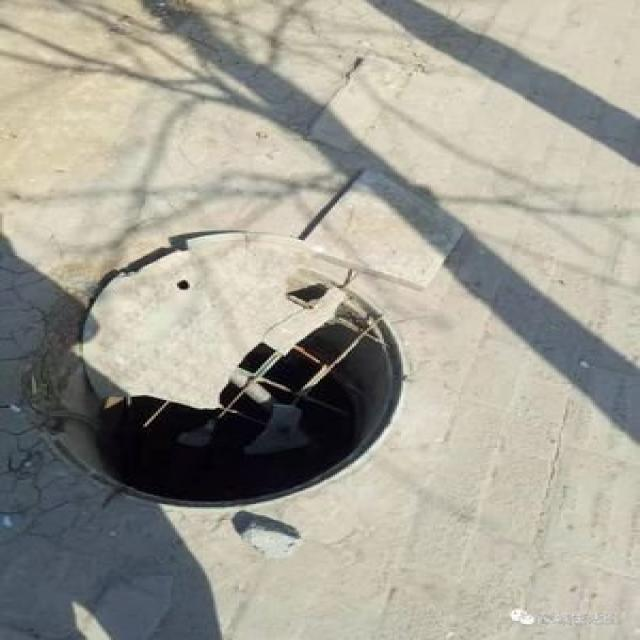manhole: (17, 222, 418, 514)
